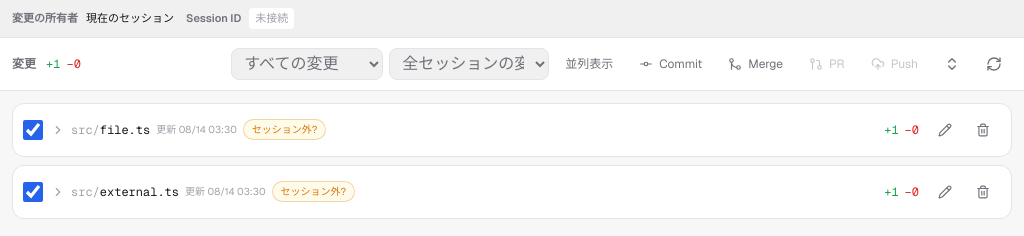
Test: DiffPane directory race › explains when the current-session filter hides changes and reveals them via すべて表示
The image size is (1024, 236).
Expected: the text "file.ts" is shown, [100, 122, 150, 138]
Select "現在のセッション" in the dropdown named "表示するセッションの変更". click: (469, 64)
box: [389, 48, 549, 80]
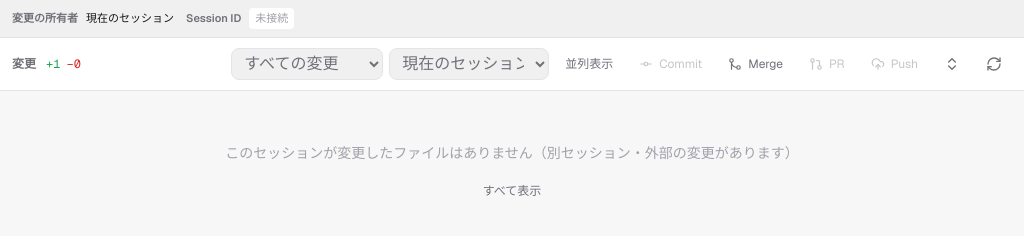
Expected: the text "このセッションが変更したファイルはありません（別セッション・外部の変更があります）" is shown, [225, 142, 799, 162]
Click the button "すべて表示". click: (512, 190)
box: [473, 174, 551, 206]
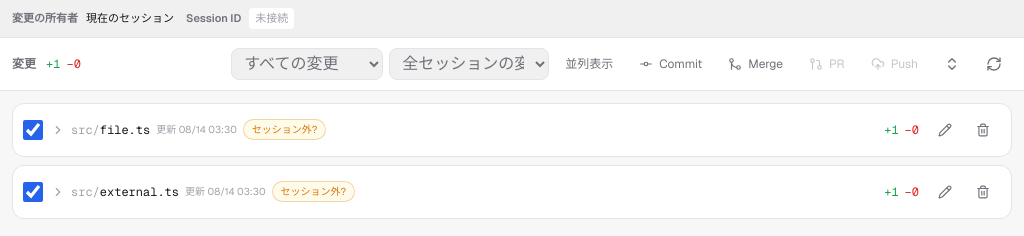
Expected: the text "external.ts" is shown, [100, 184, 179, 200]
Expected: the text "file.ts" is shown, [100, 122, 150, 138]
